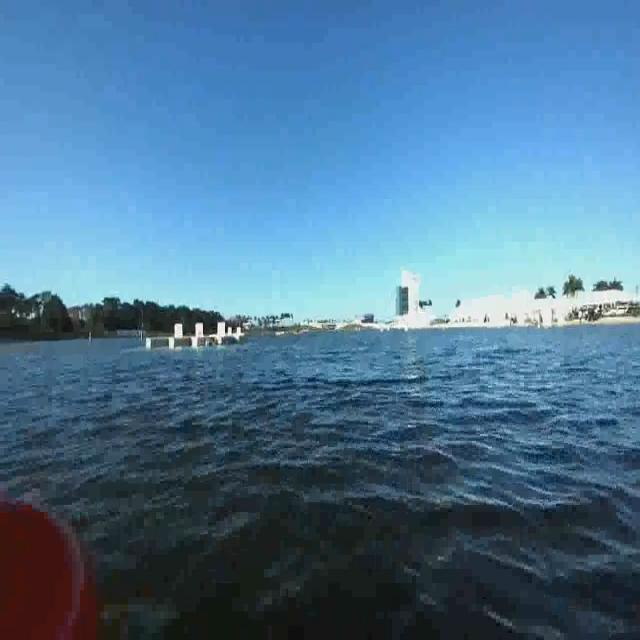red-buoy: (0, 498, 106, 638)
